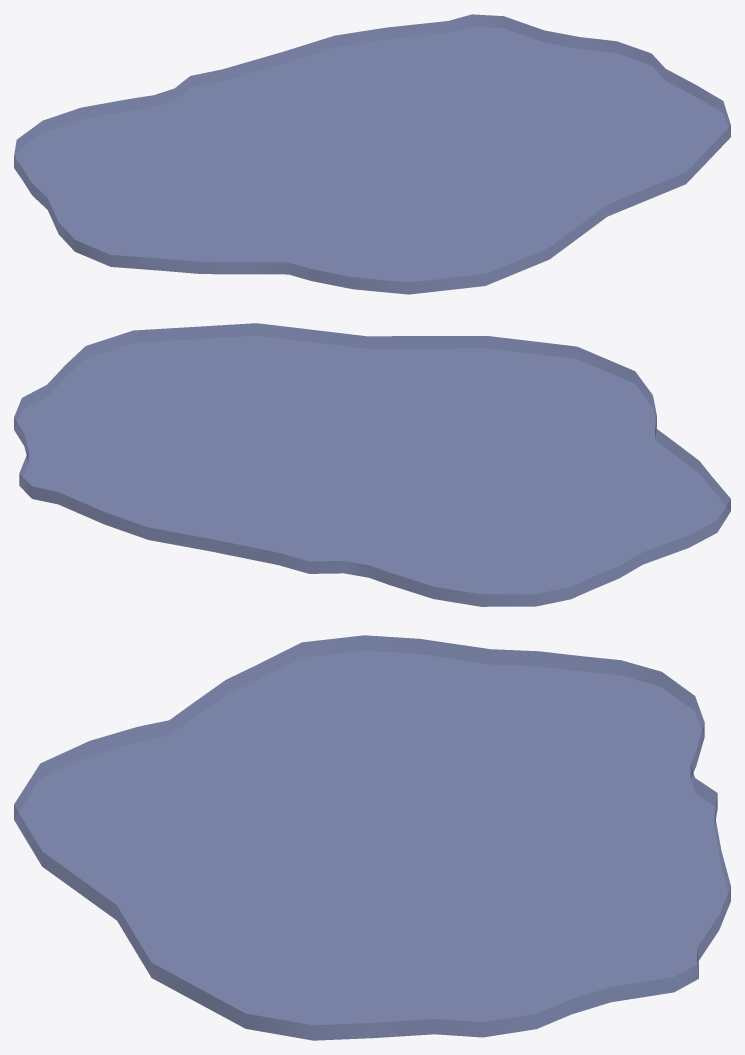
The model's file is Puddle_02(1).fbx.
3 renders of one model, top to bottom at view 1: azimuth 30°, elevation 25°; view 2: azimuth 150°, elevation 25°; view 3: azimuth 270°, elevation 25°, orthographic. The views are drawn at different scales.
Parts seen in each view (by area): view 1: pCylinder1; view 2: pCylinder1; view 3: pCylinder1.
Boxes of the visible parts, x1,y1,x2,y2 form: pCylinder1: (14,14,730,294); pCylinder1: (14,323,730,606); pCylinder1: (14,635,730,1040).
Size of the model in its own units: 1.37 by 0.0252 by 1.07.
